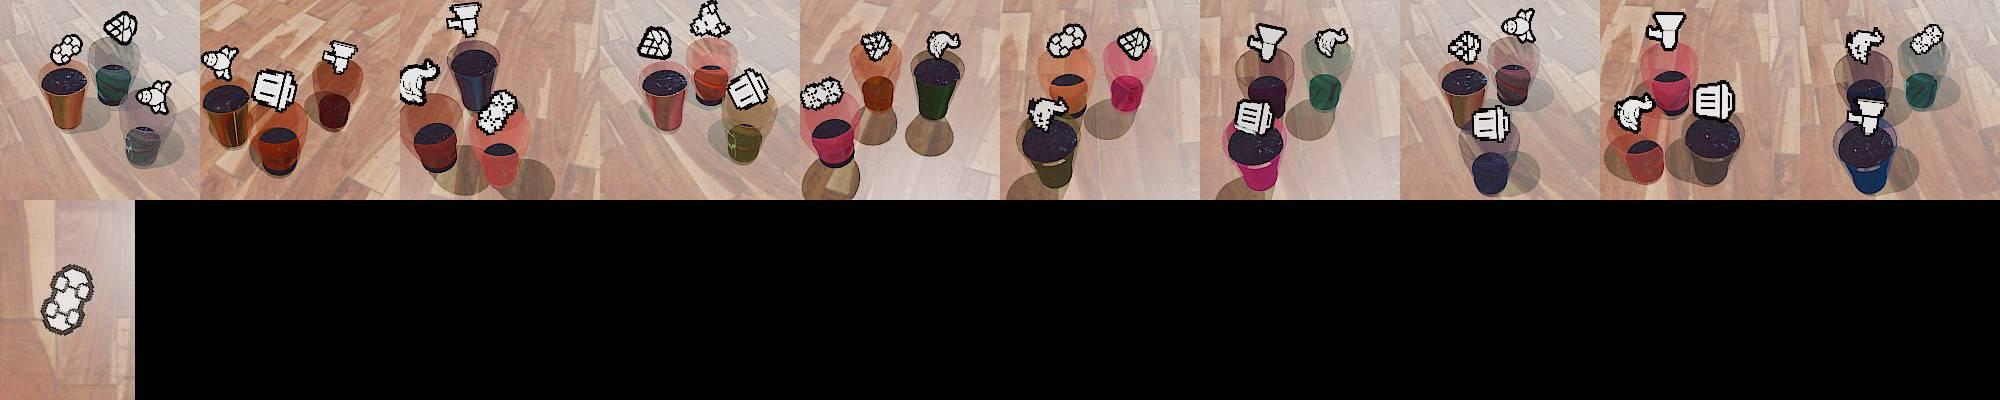icon: (38, 264, 96, 338), (251, 68, 298, 113), (476, 88, 519, 136), (398, 59, 440, 106), (1693, 78, 1736, 121), (727, 65, 769, 110), (1645, 10, 1687, 54), (1612, 92, 1656, 132), (1247, 22, 1288, 62), (1235, 96, 1276, 136), (798, 75, 844, 111), (1847, 96, 1888, 135), (689, 0, 731, 38), (134, 78, 175, 116), (1026, 96, 1069, 131), (1472, 103, 1511, 141), (1046, 23, 1087, 59), (200, 46, 239, 83), (1844, 28, 1884, 64), (321, 38, 357, 75), (1500, 8, 1537, 43), (636, 25, 673, 60), (1116, 25, 1152, 60), (103, 10, 138, 46), (446, 3, 482, 37), (1909, 23, 1945, 56), (48, 33, 84, 66), (1449, 31, 1483, 64), (926, 29, 962, 60), (860, 31, 894, 61), (1315, 27, 1349, 57)
